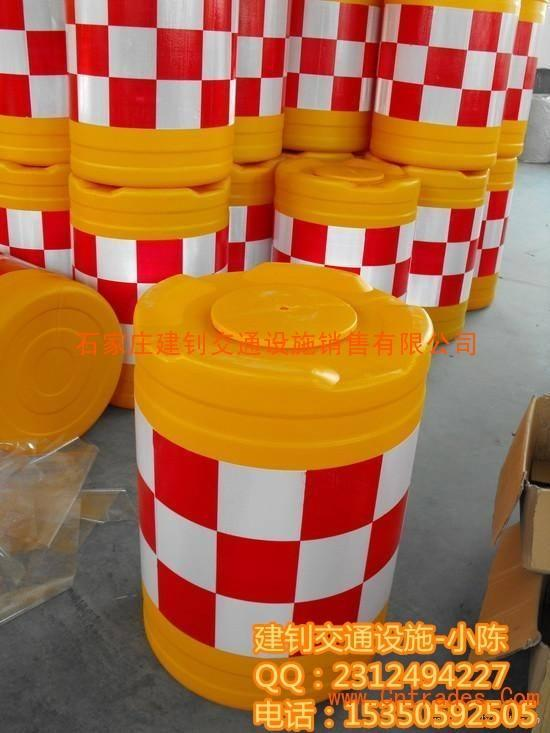sign: (128, 264, 436, 720)
